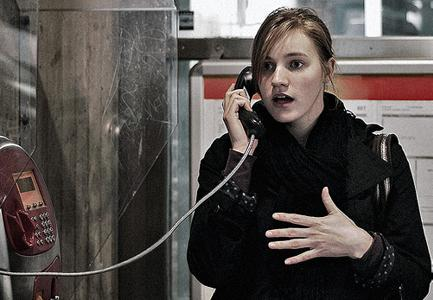person: (186, 9, 432, 300)
